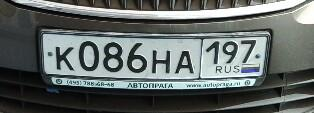license-plateSW: (40, 34, 271, 79)
